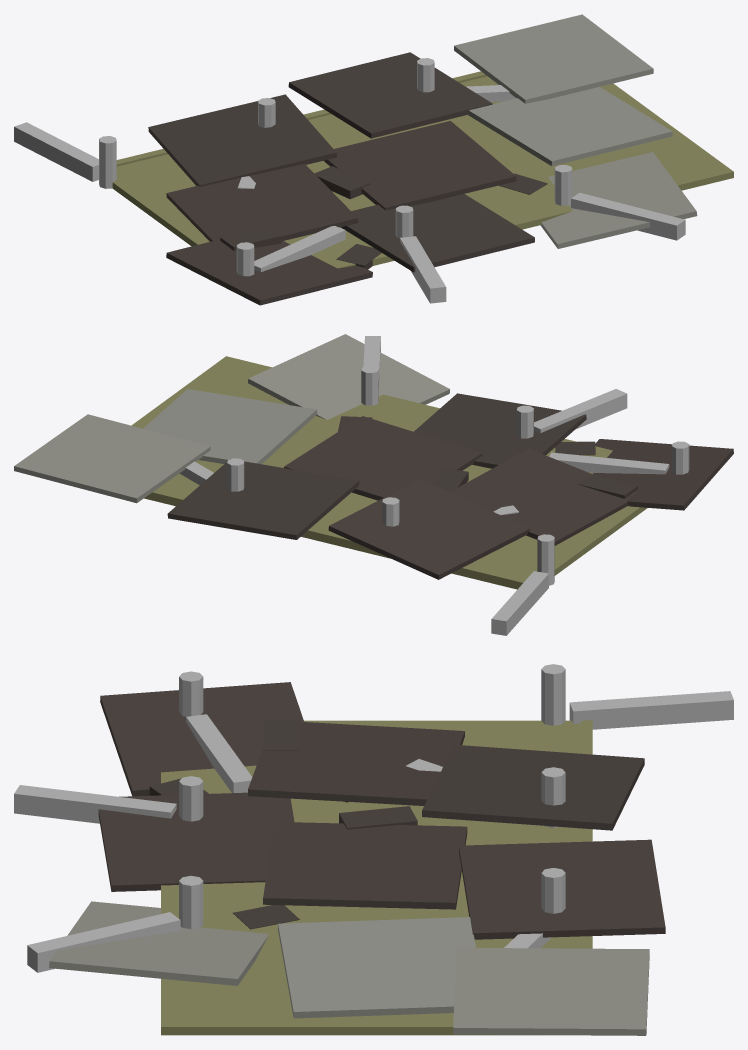
Rendered from SM_MarquesinaBus_v4_Quemada_e3_Brecha_LOD0.fbx.
The picture shows the model from 3 angles, top to bottom: view 1: azimuth 30°, elevation 25°; view 2: azimuth 150°, elevation 25°; view 3: azimuth 270°, elevation 25°; orthographic projection. The views are drawn at different scales.
Visible parts, largest first — view 1: SM_marquesina_bus_v19_LOD0; view 2: SM_marquesina_bus_v19_LOD0; view 3: SM_marquesina_bus_v19_LOD0.
Boxes of the visible parts, left/top/right/bottom form: SM_marquesina_bus_v19_LOD0: left=14, top=14, right=733, bottom=305; SM_marquesina_bus_v19_LOD0: left=14, top=334, right=733, bottom=635; SM_marquesina_bus_v19_LOD0: left=14, top=664, right=733, bottom=1035.
Bounding box in the file's own units: 13.87 × 1.16 × 11.92.
